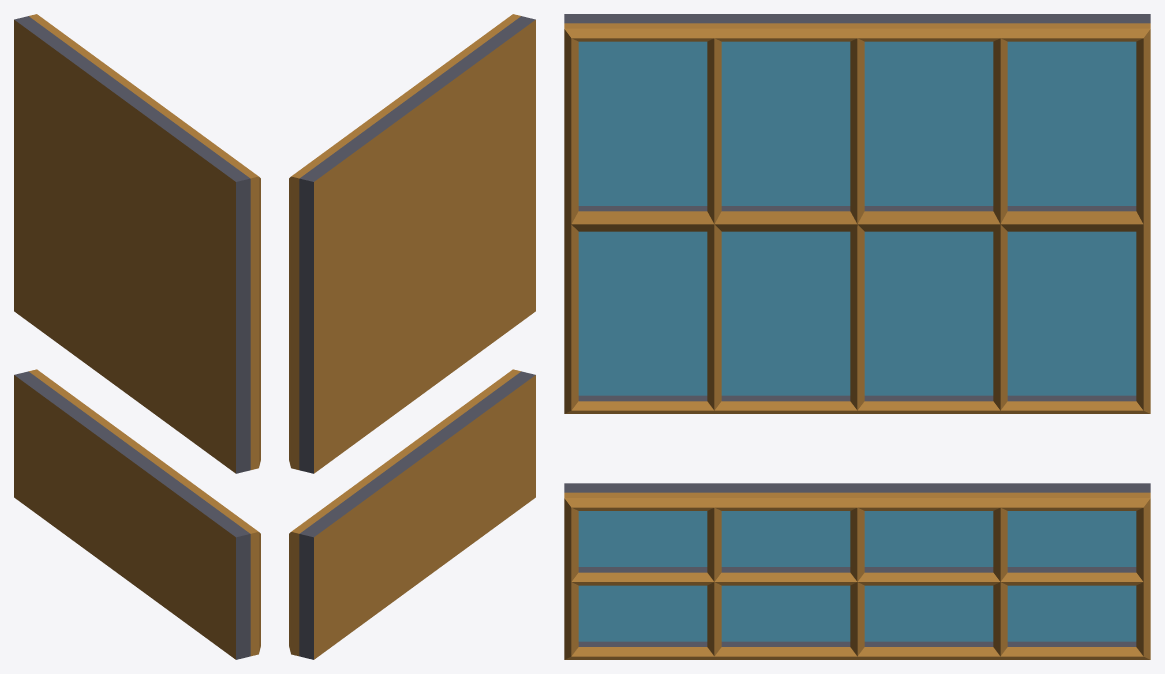
Rendered from window.fbx.
The picture shows the model from 3 angles, left to right: view 1: azimuth 30°, elevation 25°; view 2: azimuth 150°, elevation 25°; view 3: azimuth 270°, elevation 25°; orthographic projection. The views are drawn at different scales.
Parts seen in each view (by area): view 1: Cube.007, Cube.002; view 2: Cube.007, Cube.002; view 3: Cube.007, Cube.002.
Boxes of the visible parts, box(x1,y1,x2,y2) form: Cube.007: box(14, 14, 260, 473); Cube.002: box(14, 369, 260, 659); Cube.007: box(289, 14, 535, 473); Cube.002: box(289, 369, 535, 659); Cube.007: box(564, 14, 1150, 413); Cube.002: box(564, 483, 1150, 659).
Size of the model in its own units: 0.2042 by 3.39 by 2.85.
